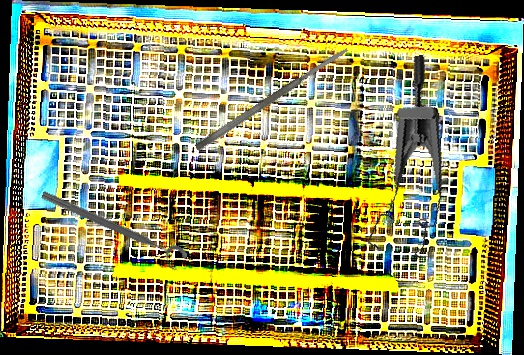Fixation Ring: (35, 187, 190, 274)
Spatula Surgical: (193, 45, 351, 153)
Speculum: (328, 53, 472, 270)
